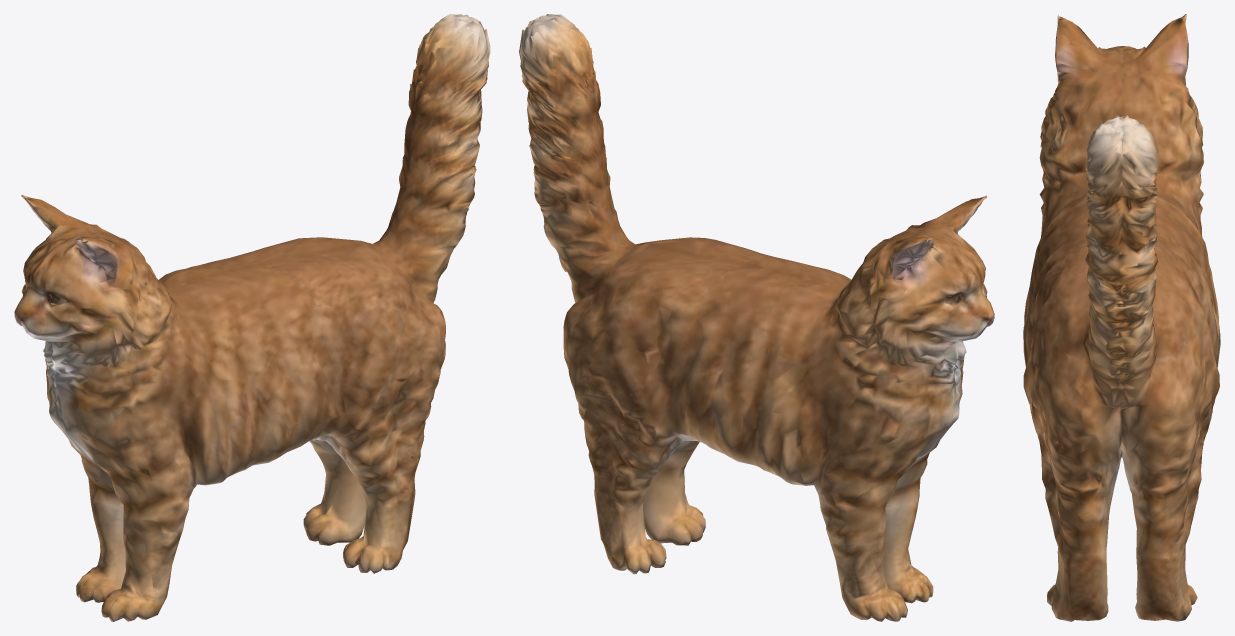
The model's file is DEWEYCAT-lo.glb.
3 views of the same model, side by side, from view 1: azimuth 30°, elevation 25°; view 2: azimuth 150°, elevation 25°; view 3: azimuth 270°, elevation 25° (orthographic). The views are drawn at different scales.
Visible parts, largest first — view 1: tripo_node_5b098a70-85f3-4202-aed0-aeabf092120e; view 2: tripo_node_5b098a70-85f3-4202-aed0-aeabf092120e; view 3: tripo_node_5b098a70-85f3-4202-aed0-aeabf092120e.
Part boxes in pixels (box(x1,y1,x2,y2)): tripo_node_5b098a70-85f3-4202-aed0-aeabf092120e: box(14, 14, 490, 621); tripo_node_5b098a70-85f3-4202-aed0-aeabf092120e: box(519, 14, 994, 621); tripo_node_5b098a70-85f3-4202-aed0-aeabf092120e: box(1023, 14, 1220, 621).
Size of the model in its own units: 0.9616 by 0.9999 by 0.3239.
Materials: 1 (1 with a texture image).
